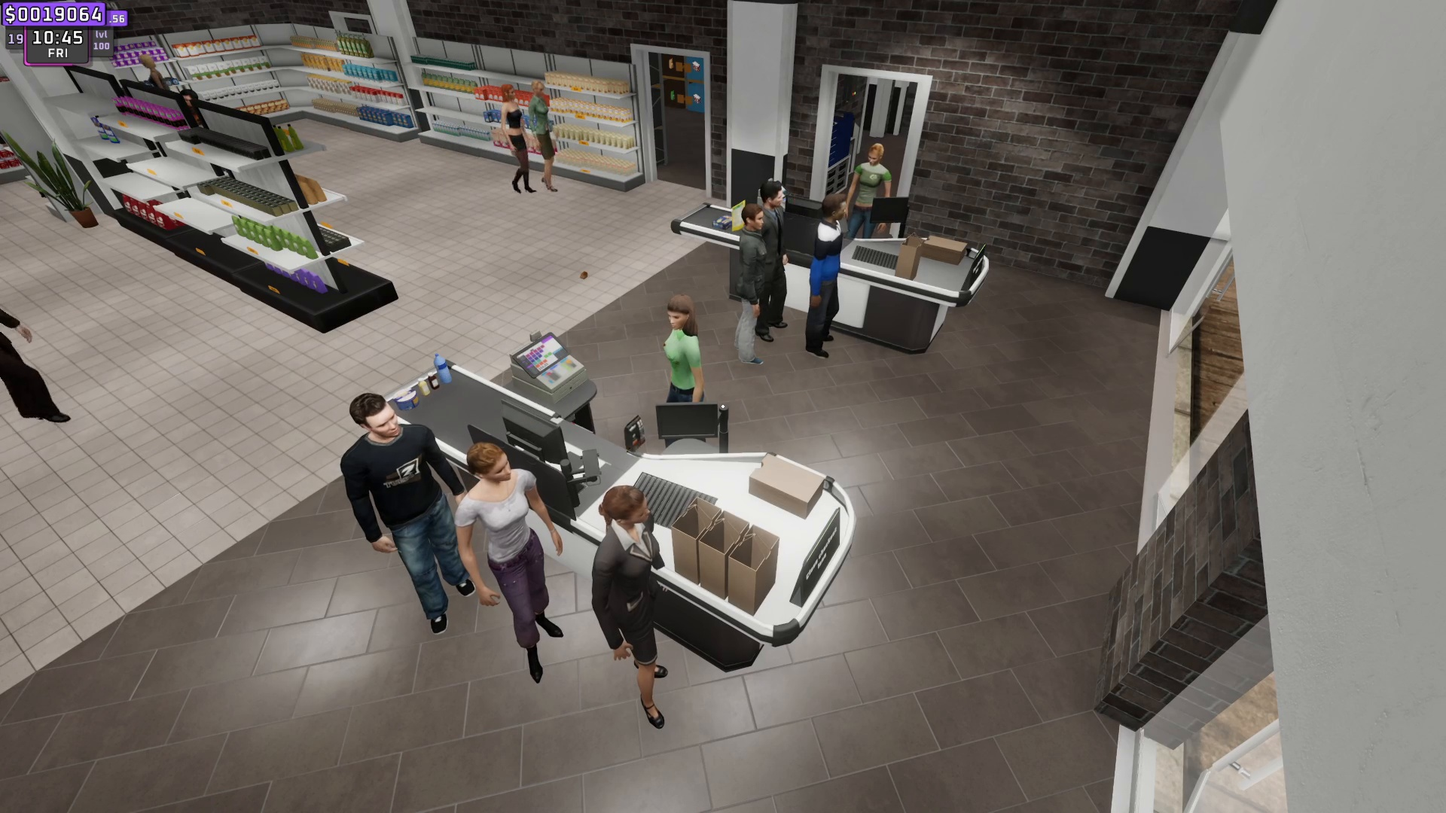Client: (348, 401, 477, 619), (467, 446, 574, 687), (598, 480, 697, 727), (818, 194, 855, 369), (760, 184, 791, 336), (739, 209, 762, 357)
Employee: (665, 291, 697, 401), (854, 139, 891, 231)
